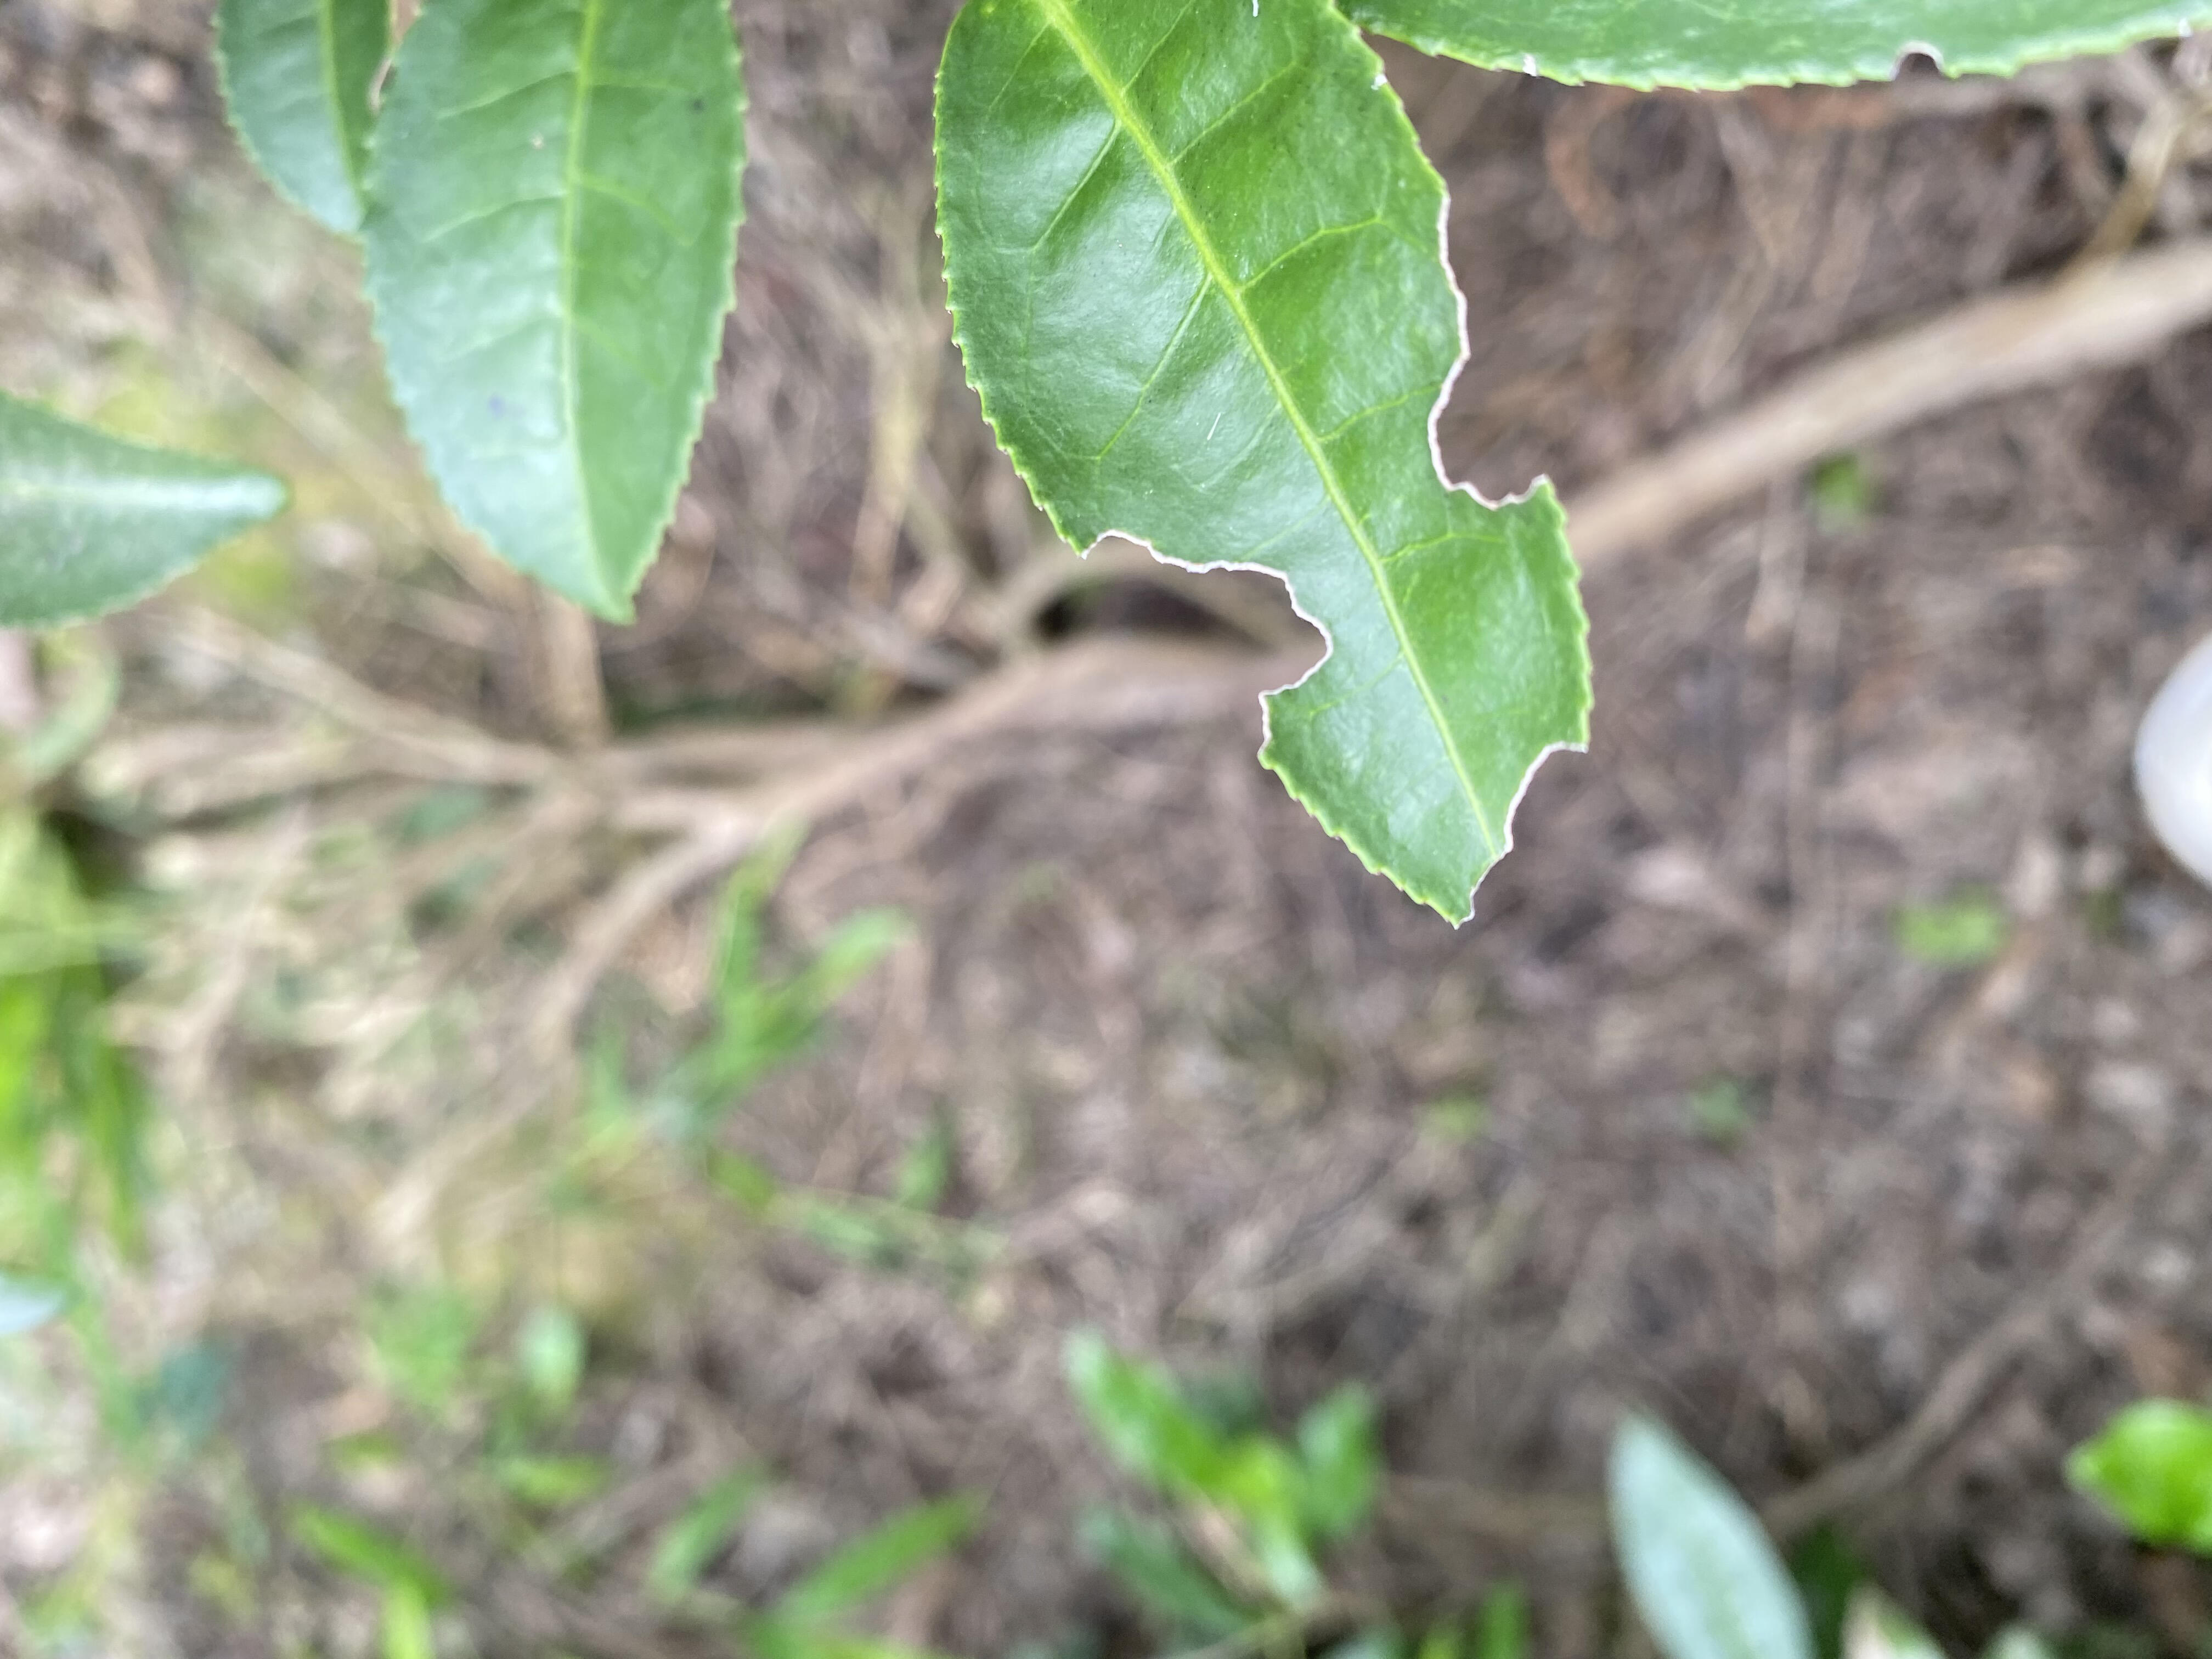chihuo_high: (930, 2, 1594, 932)
